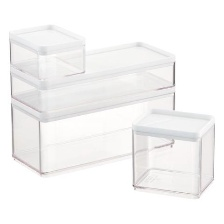plastic_box: (3, 34, 180, 182), (122, 102, 224, 203), (5, 19, 90, 84)
